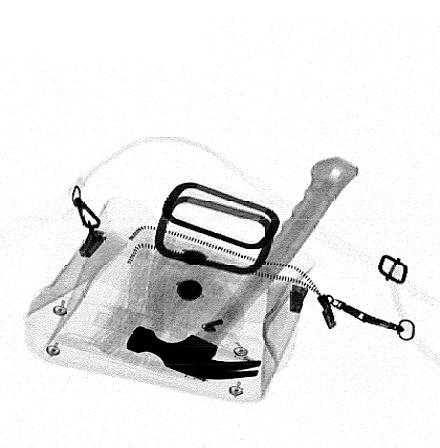Hammer: (126, 156, 360, 380)
